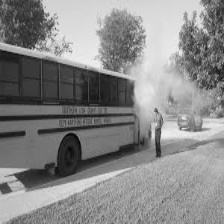smoke: (136, 65, 163, 116)
